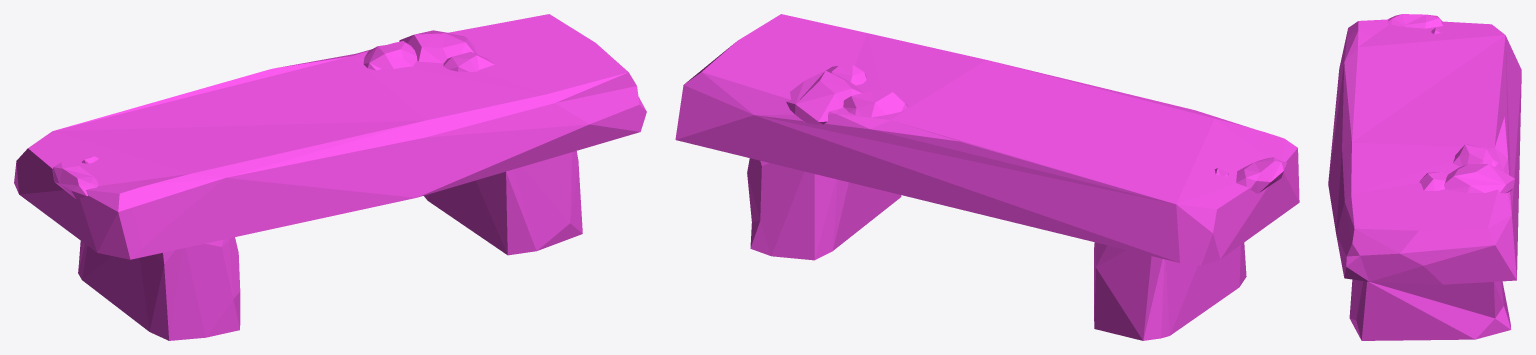
The model's file is SM_Bench_Stone_Simple_A_Moss_Fantasy.fbx.
The picture shows the model from 3 angles, left to right: view 1: azimuth 30°, elevation 25°; view 2: azimuth 150°, elevation 25°; view 3: azimuth 270°, elevation 25°; orthographic projection. The views are drawn at different scales.
Visible parts, largest first — view 1: SM_Bench_Stone_Simple_A_Moss_Fantasy; view 2: SM_Bench_Stone_Simple_A_Moss_Fantasy; view 3: SM_Bench_Stone_Simple_A_Moss_Fantasy.
Boxes of the visible parts, bbox=[...] form: SM_Bench_Stone_Simple_A_Moss_Fantasy: bbox=[14, 14, 646, 340]; SM_Bench_Stone_Simple_A_Moss_Fantasy: bbox=[675, 14, 1299, 340]; SM_Bench_Stone_Simple_A_Moss_Fantasy: bbox=[1328, 14, 1521, 340].
Bounding box in the file's own units: 2 × 0.5922 × 0.7283.
